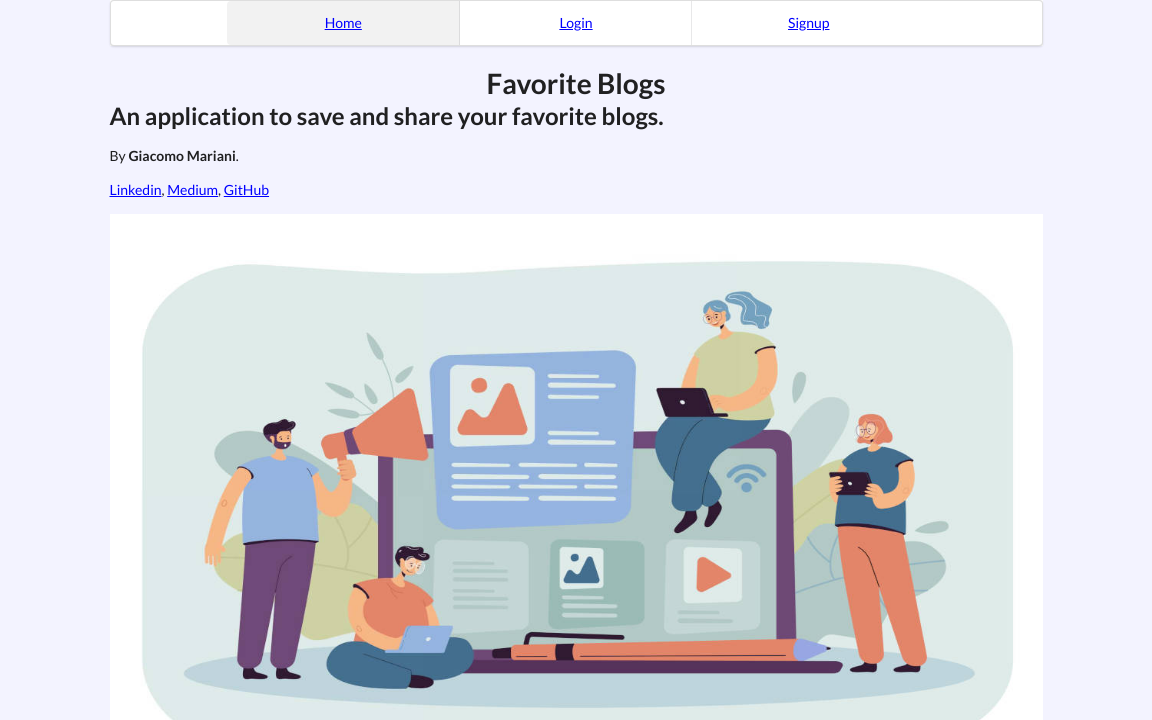
Test: Signup › Signup page opens
Click the link "Signup". click: click(809, 23)
box: [788,14,830,32]
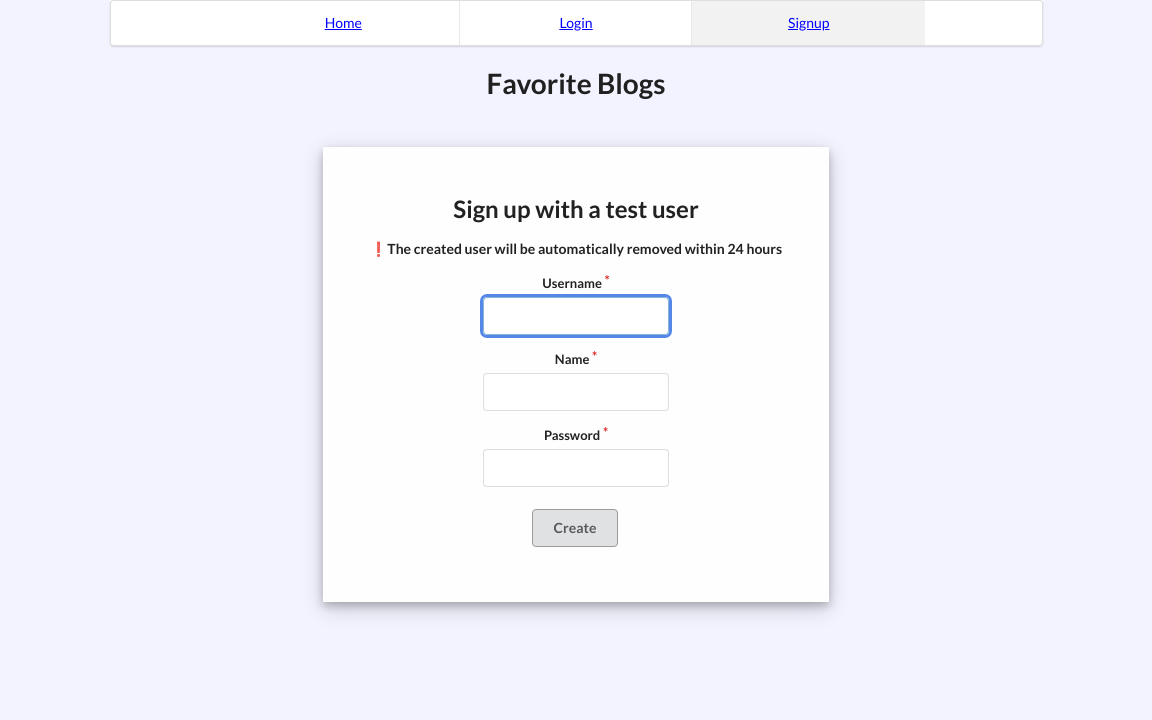
Expected: the heading "Sign up with a test user" is shown, [453,194,699,223]
Expected: the text "The created user will be automatically removed within 24 hours" is shown, [387,240,782,257]
